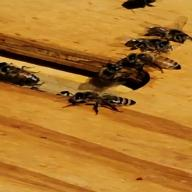Bee: (52, 88, 141, 114), (122, 47, 185, 77)
